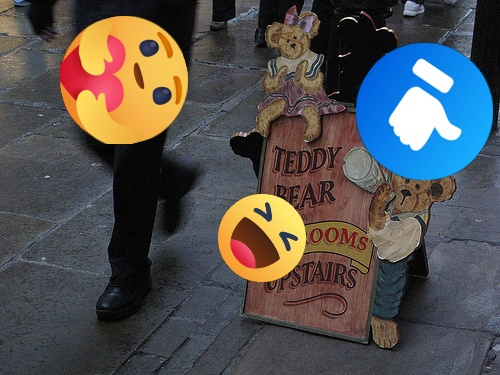care: (60, 16, 188, 144)
haha: (218, 194, 306, 282)
like: (356, 43, 493, 180)
